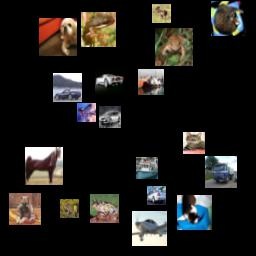airplane: (132, 211, 167, 246), (77, 103, 96, 122)
automobile: (53, 73, 82, 102), (95, 66, 124, 95), (99, 106, 121, 128), (147, 186, 166, 205)
cat: (177, 195, 212, 230), (211, 1, 246, 36), (183, 132, 205, 154)
deer: (152, 4, 171, 23)
dog: (39, 18, 77, 56), (9, 193, 41, 225)
frog: (155, 28, 193, 66), (81, 12, 116, 47), (90, 194, 119, 223), (60, 199, 79, 218)
ship: (138, 69, 164, 95), (136, 157, 158, 179)
truck: (205, 156, 237, 188)
